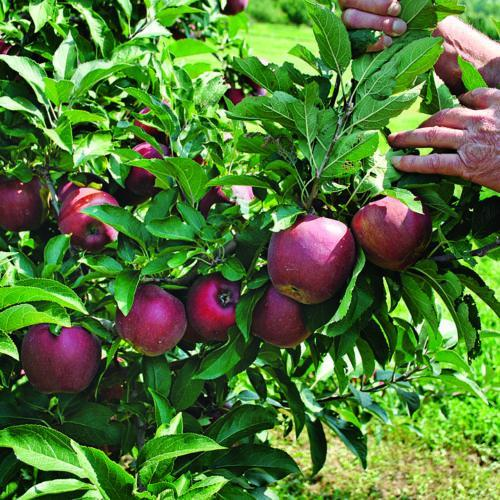apple: (266, 213, 356, 305), (351, 193, 430, 270), (21, 324, 97, 396), (116, 283, 187, 355), (55, 186, 122, 245), (186, 274, 240, 343), (249, 289, 307, 347)
